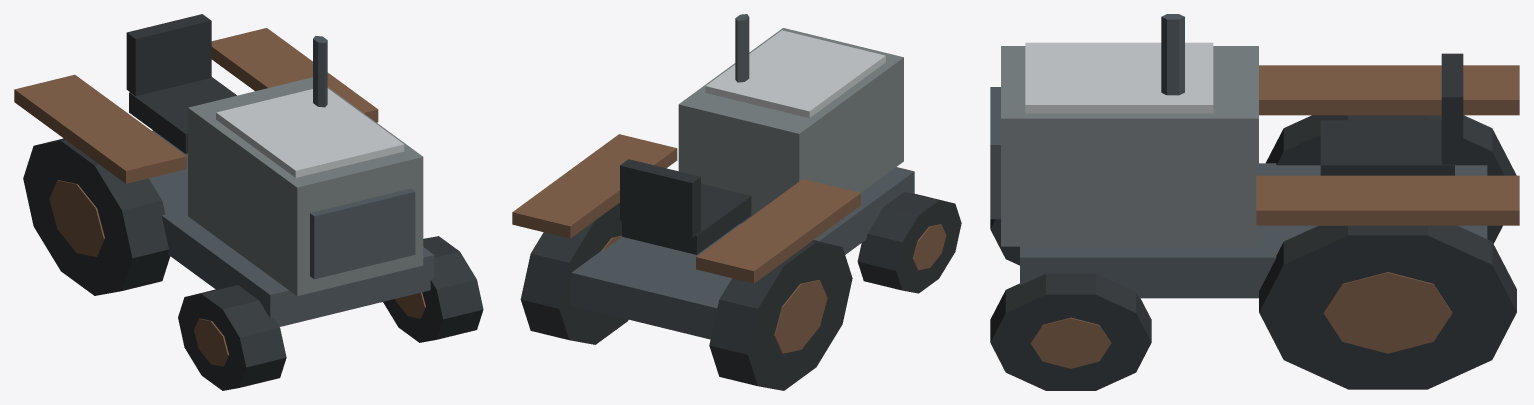
File: farm_tractor.glb
3 renders of one model, left to right at view 1: azimuth 30°, elevation 25°; view 2: azimuth 150°, elevation 25°; view 3: azimuth 270°, elevation 25°, orthographic. The views are drawn at different scales.
Visible parts, largest first — view 1: farm_tractor; view 2: farm_tractor; view 3: farm_tractor.
Part boxes in pixels (x1,y1,x2,y2): farm_tractor: (14, 14, 483, 390); farm_tractor: (512, 14, 961, 390); farm_tractor: (990, 14, 1519, 390).
Bounding box in the file's own units: 1.25 × 1.3 × 1.92.
